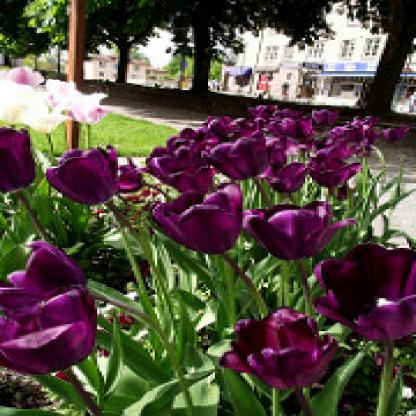TULIP: (4, 84, 399, 391)
